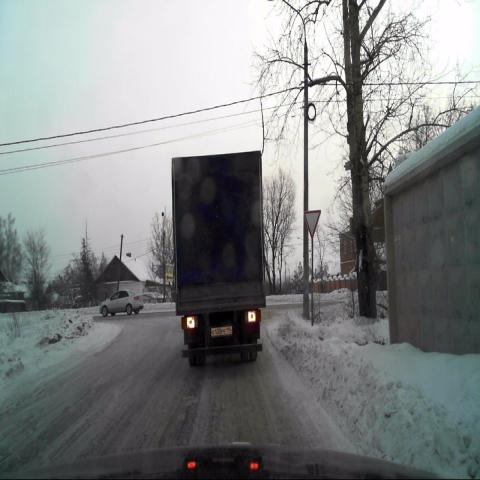2_4: (303, 209, 321, 239)
